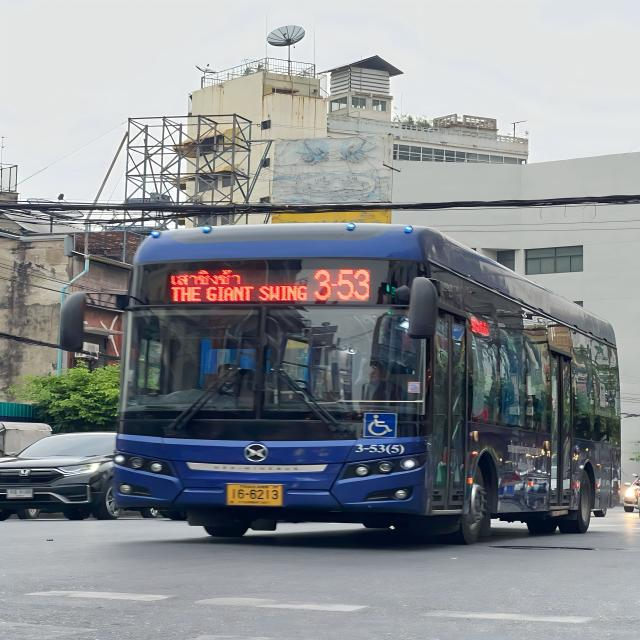Bus Line Number: (312, 260, 374, 305)
Destination Sign: (164, 269, 313, 307)
TSB-Bus: (109, 223, 622, 546)
